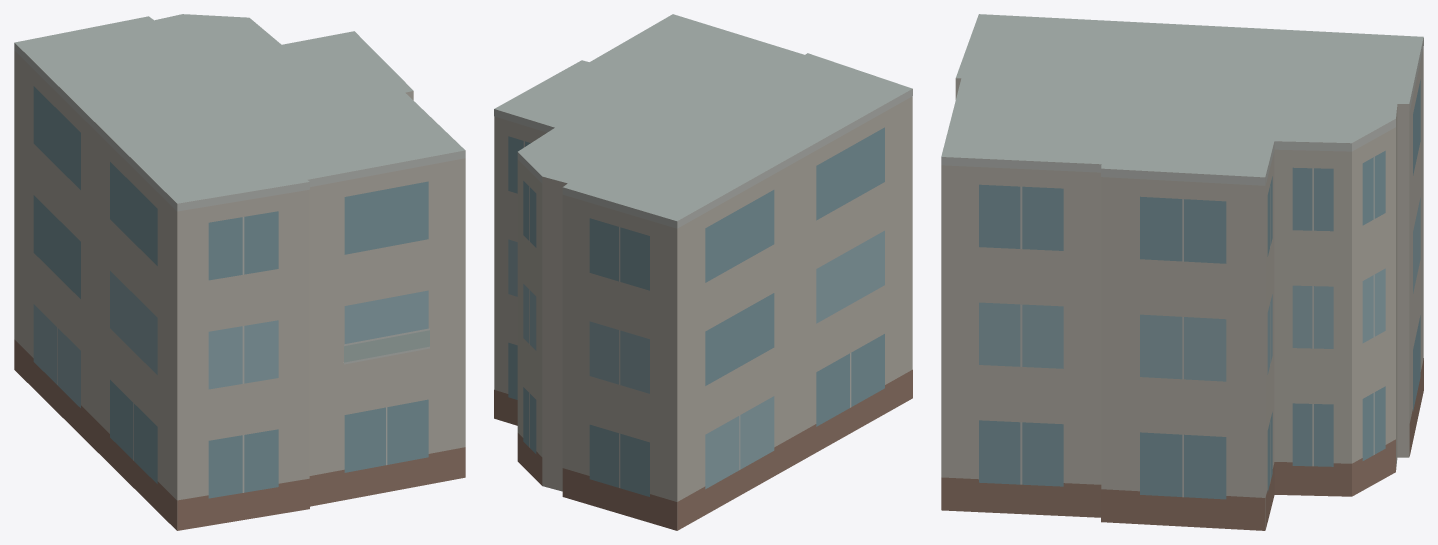
Rendered from survey-upis-32922924.glb.
3 views of the same model, side by side, from view 1: azimuth 30°, elevation 25°; view 2: azimuth 150°, elevation 25°; view 3: azimuth 270°, elevation 25° (orthographic). The views are drawn at different scales.
Visible parts, largest first — view 1: survey-upis-32922924.tmp; view 2: survey-upis-32922924.tmp; view 3: survey-upis-32922924.tmp.
Boxes of the visible parts, x1,y1,x2,y2 form: survey-upis-32922924.tmp: (14,14,465,530); survey-upis-32922924.tmp: (494,14,912,530); survey-upis-32922924.tmp: (941,14,1423,530).
Bounding box in the file's own units: 10.12 × 10.2 × 12.63.
